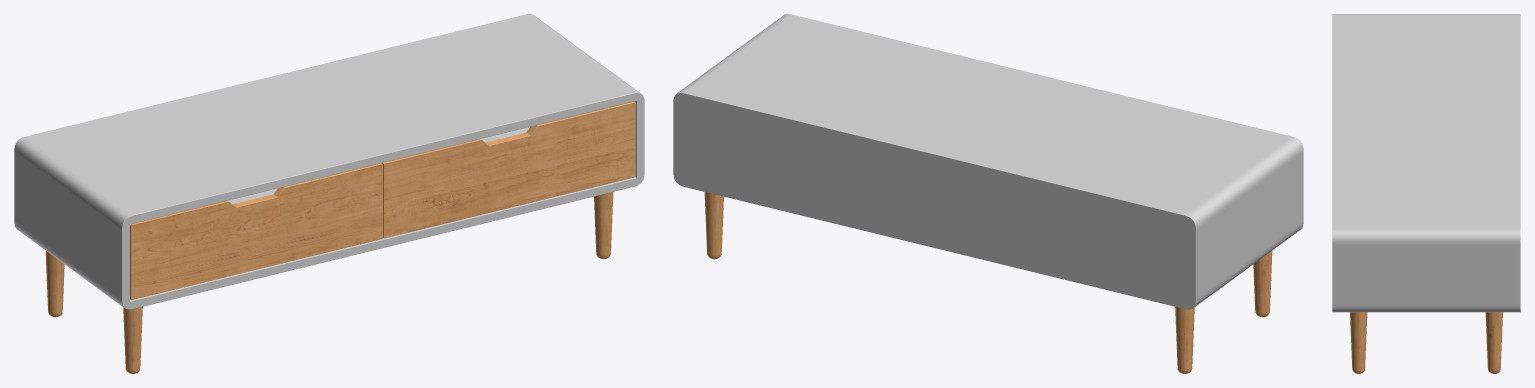
Rendered from 简约家具电视机柜茶几柜FBX.fbx.
The picture shows the model from 3 angles, left to right: view 1: azimuth 30°, elevation 25°; view 2: azimuth 150°, elevation 25°; view 3: azimuth 270°, elevation 25°; orthographic projection. The views are drawn at different scales.
Parts seen in each view (by area): view 1: cgaxis_models_48_32_02, cgaxis_models_48_32_01; view 2: cgaxis_models_48_32_02, cgaxis_models_48_32_01; view 3: cgaxis_models_48_32_02, cgaxis_models_48_32_01.
Part boxes in pixels (x1,y1,x2,y2): cgaxis_models_48_32_02: (14, 14, 644, 309); cgaxis_models_48_32_01: (45, 101, 635, 373); cgaxis_models_48_32_02: (673, 14, 1303, 309); cgaxis_models_48_32_01: (704, 192, 1272, 373); cgaxis_models_48_32_02: (1332, 14, 1520, 312); cgaxis_models_48_32_01: (1350, 312, 1502, 373).
Bounding box in the file's own units: 140 × 44 × 50.
Materials: 2 (1 with a texture image).
